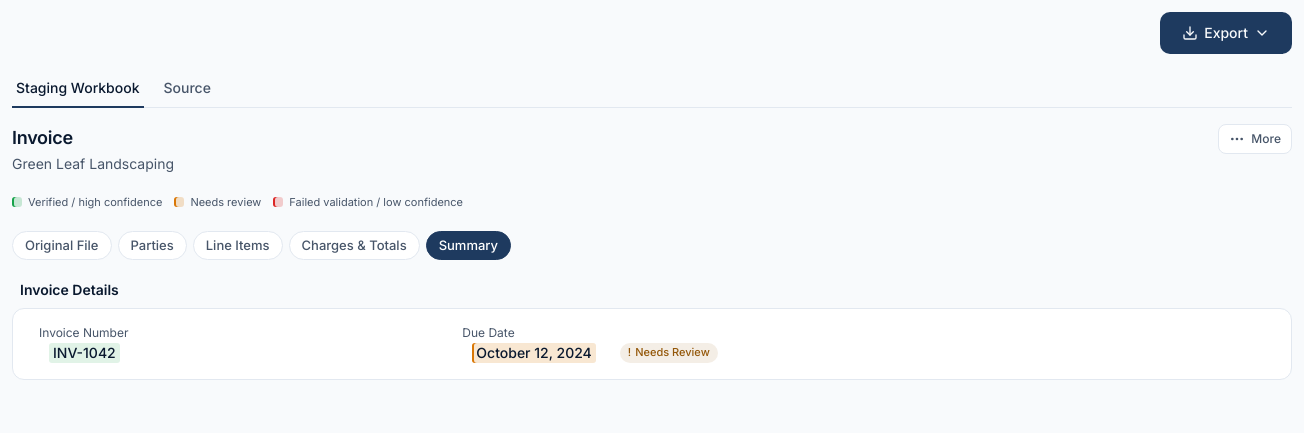
it: Invoice presentation › reads charges and totals as an invoice summary, each concept once
The width and height of the screenshot is (1304, 433).
Click the tab "Charges & Totals" at (354, 245), box x1=288 y1=230 x2=420 y2=260
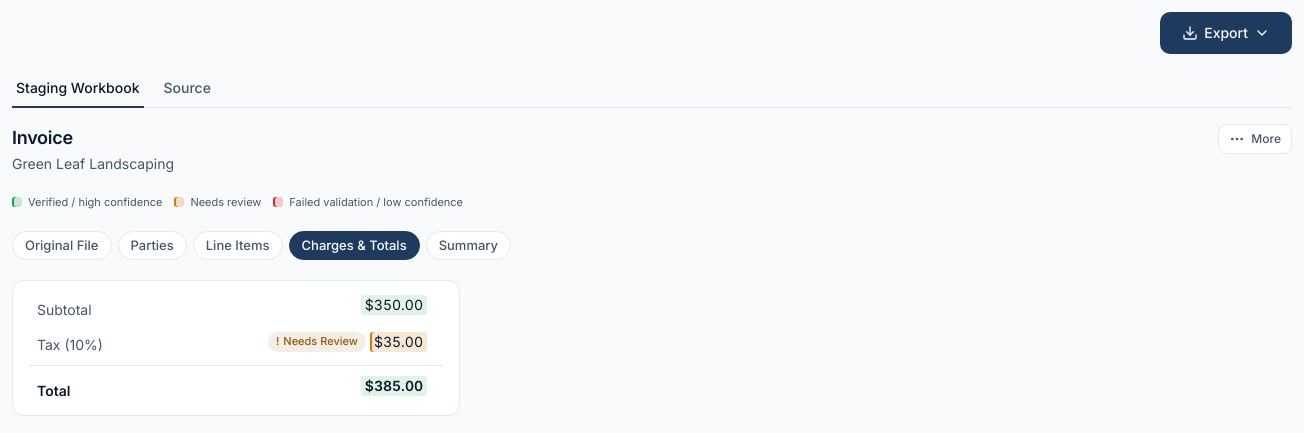
Check: the text "$385.00" is shown, box x1=361 y1=376 x2=427 y2=396
